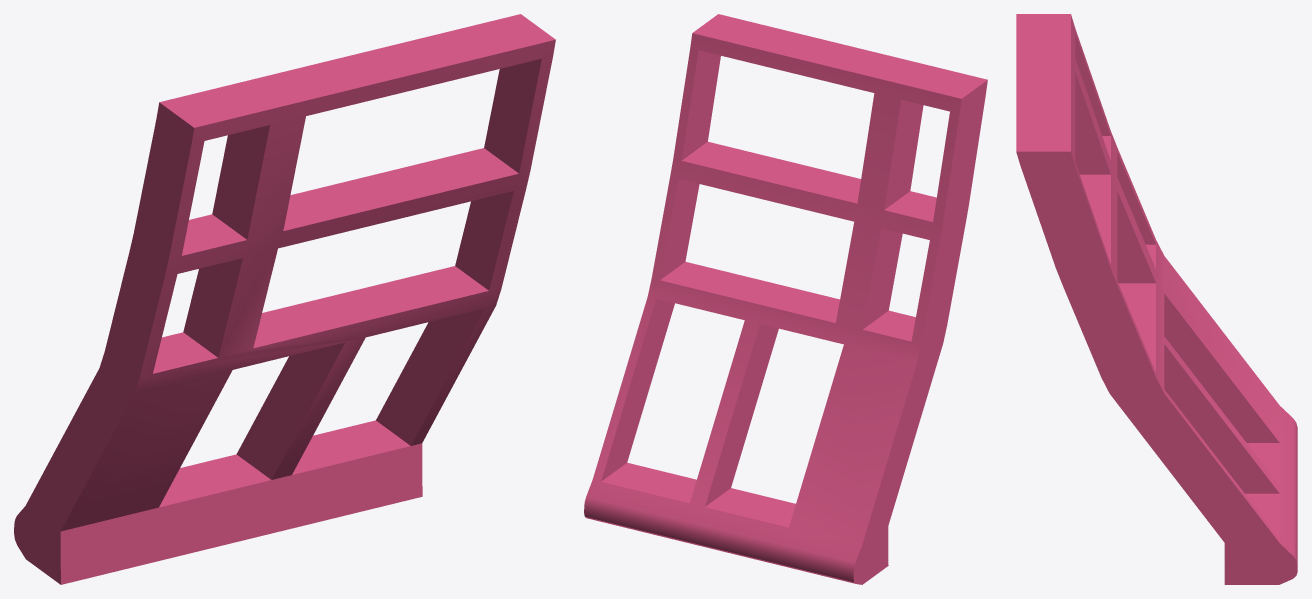
Rendered from LeftPedal.fbx.
3 views of the same model, side by side, from view 1: azimuth 30°, elevation 25°; view 2: azimuth 150°, elevation 25°; view 3: azimuth 270°, elevation 25° (orthographic). The views are drawn at different scales.
Parts seen in each view (by area): view 1: LeftPedal; view 2: LeftPedal; view 3: LeftPedal.
Boxes of the visible parts, x1,y1,x2,y2 form: LeftPedal: (14, 14, 555, 584); LeftPedal: (584, 14, 987, 584); LeftPedal: (1016, 14, 1297, 584).
Size of the model in its own units: 12.76 by 18.71 by 11.02.
